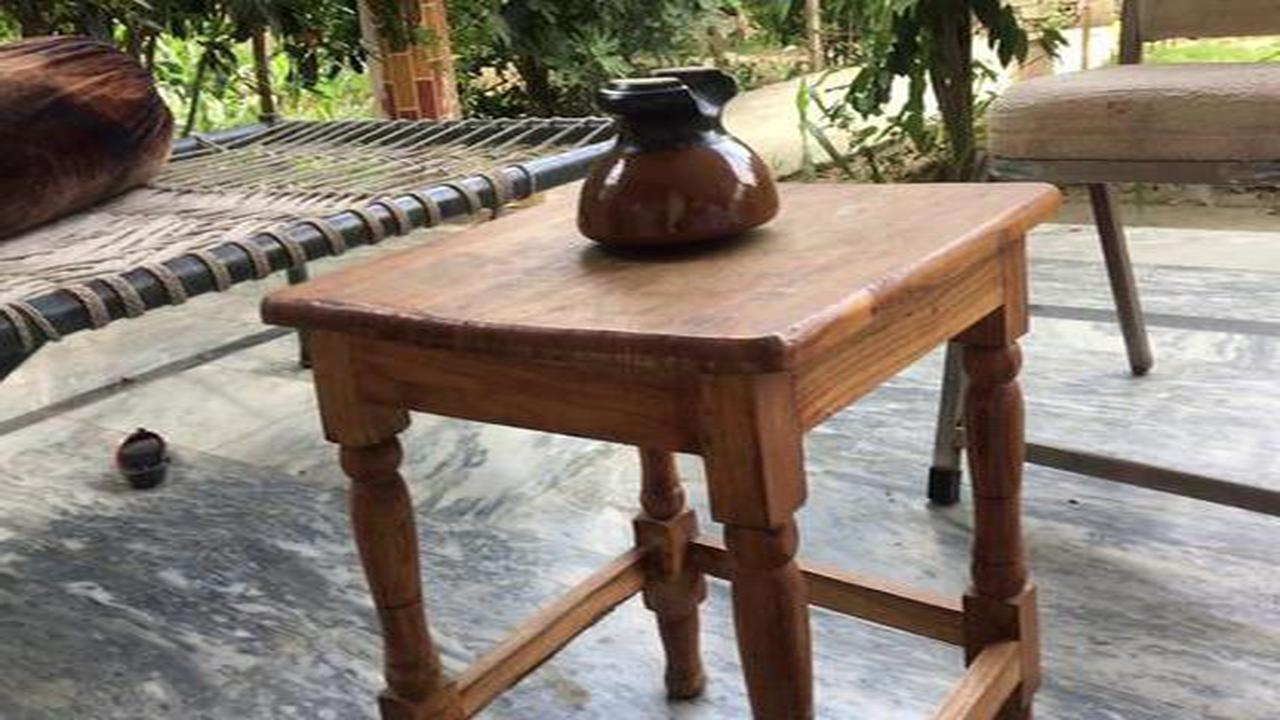insulator_pin: (557, 66, 797, 265)
